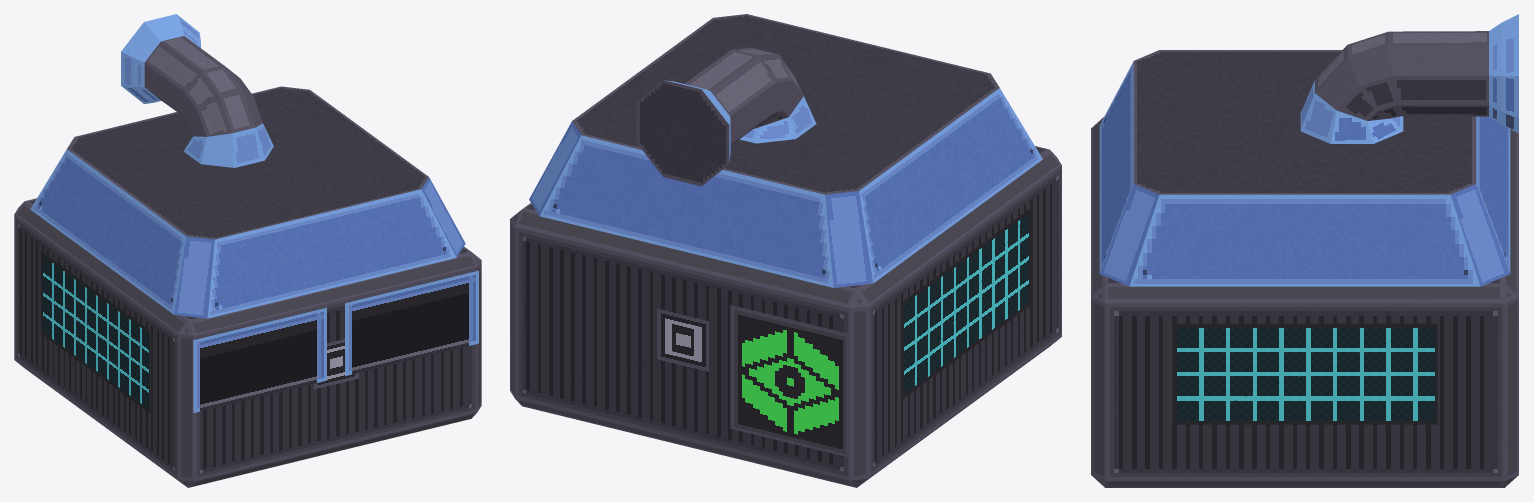
The model's file is fabricator.glb.
3 renders of one model, left to right at view 1: azimuth 30°, elevation 25°; view 2: azimuth 150°, elevation 25°; view 3: azimuth 270°, elevation 25°, orthographic. The views are drawn at different scales.
Parts seen in each view (by area): view 1: fabricator_body; view 2: fabricator_body; view 3: fabricator_body.
Part boxes in pixels (bbox=[...]): fabricator_body: bbox=[14, 14, 481, 487]; fabricator_body: bbox=[510, 14, 1061, 487]; fabricator_body: bbox=[1091, 14, 1518, 487].
Bounding box in the file's own units: 2.01 × 1.96 × 2.01.
Materials: 1 (1 with a texture image).
